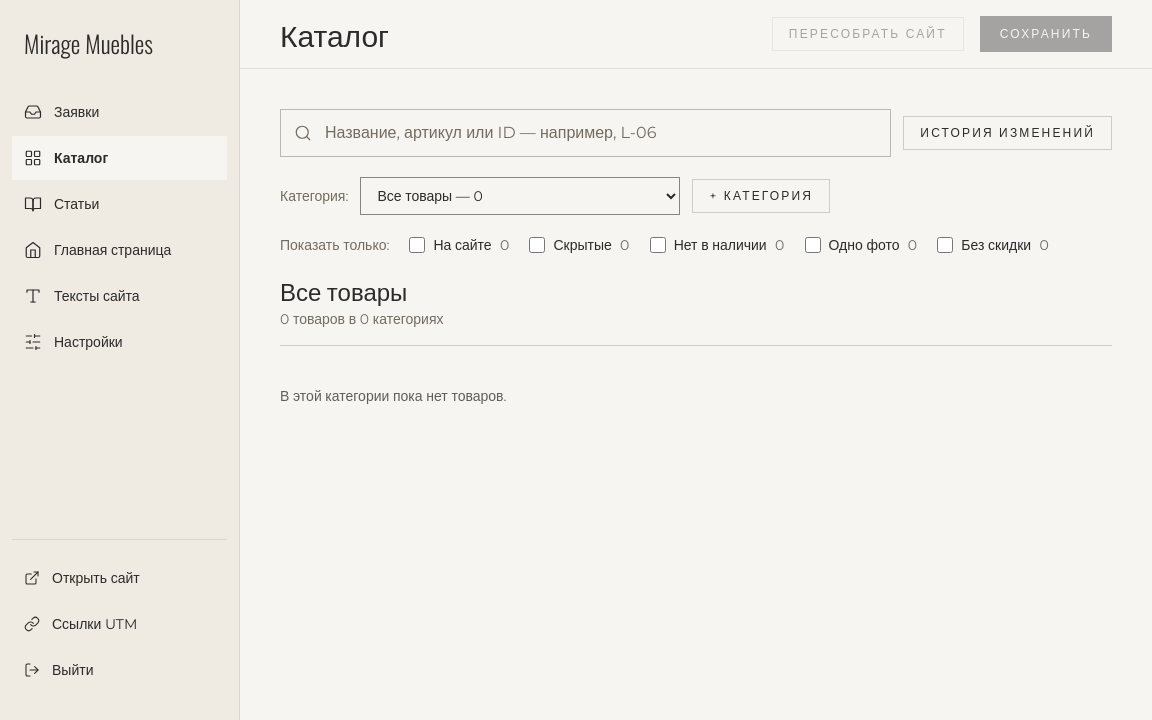
Test: AdminShell sections › switches section by its link
The image size is (1152, 720).
Click the link "Главная страница". click: (98,250)
box: [24, 241, 171, 259]
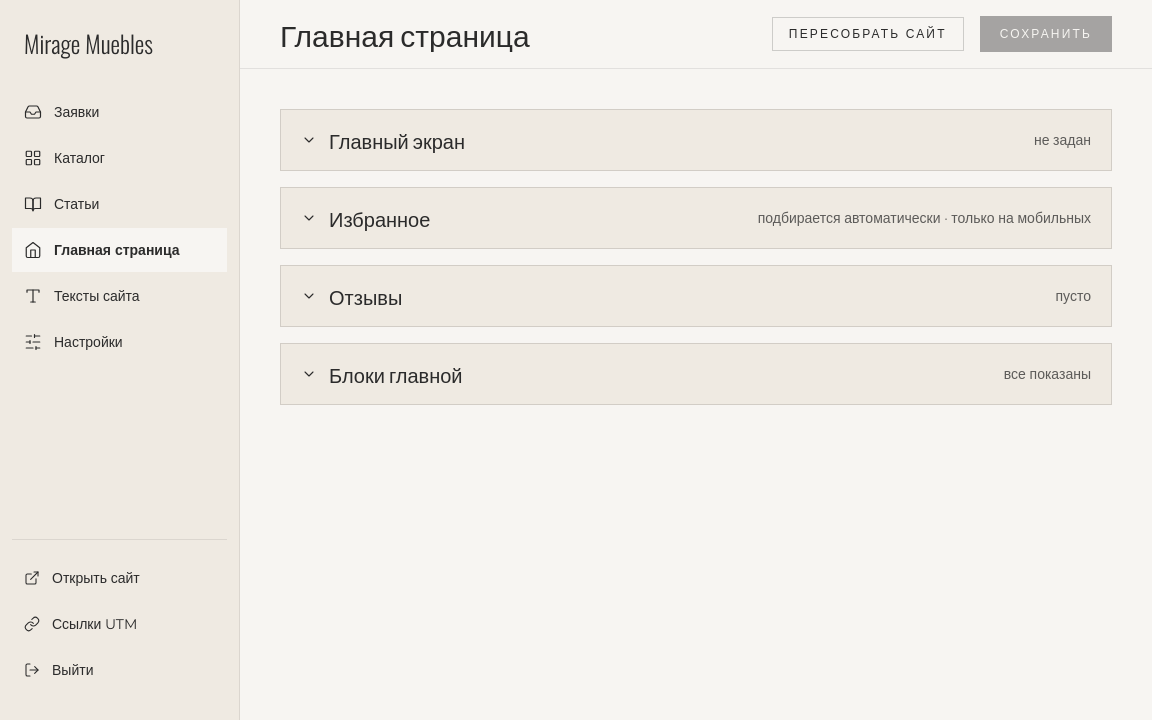
Now the heading "Главная страница" is shown, box [280, 16, 530, 52]
Now the button "Главный экран не задан" is shown, box [281, 110, 1111, 170]
